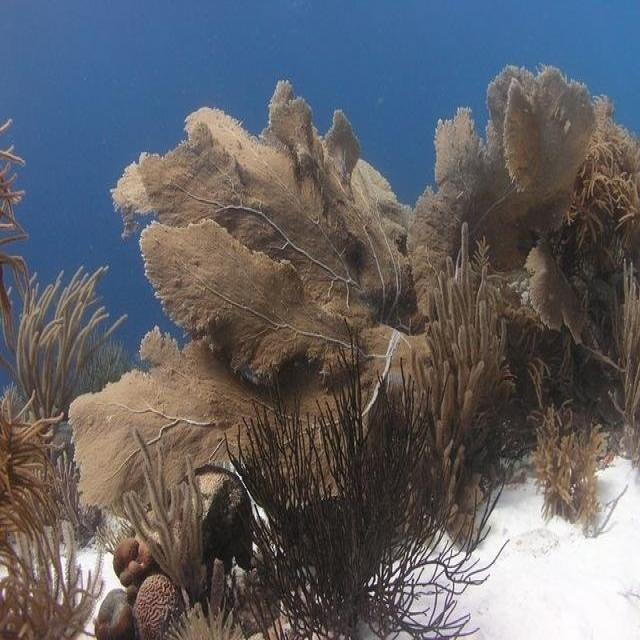aquatic plants: (72, 64, 595, 515), (222, 328, 507, 639), (410, 222, 509, 500), (0, 397, 104, 639), (126, 426, 243, 637), (0, 265, 129, 418), (571, 97, 639, 265), (535, 403, 608, 532), (612, 262, 639, 463)
